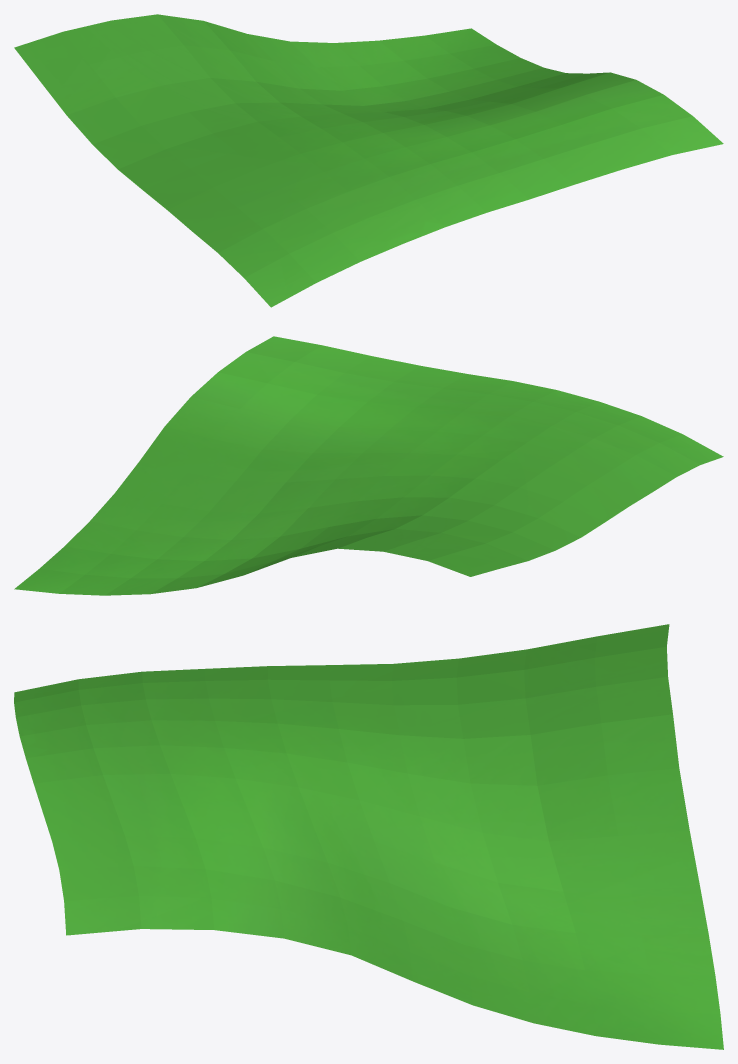
File: ground_2_2.glb
The picture shows the model from 3 angles, top to bottom: view 1: azimuth 30°, elevation 25°; view 2: azimuth 150°, elevation 25°; view 3: azimuth 270°, elevation 25°; orthographic projection. The views are drawn at different scales.
Visible parts, largest first — view 1: Ground_0_2; view 2: Ground_0_2; view 3: Ground_0_2.
Boxes of the visible parts, bbox=[...] form: Ground_0_2: bbox=[14, 14, 723, 307]; Ground_0_2: bbox=[14, 336, 723, 595]; Ground_0_2: bbox=[14, 624, 723, 1049].
Bounding box in the file's own units: 92.32 × 21.38 × 94.44.
Materials: 1 (1 with a texture image).
